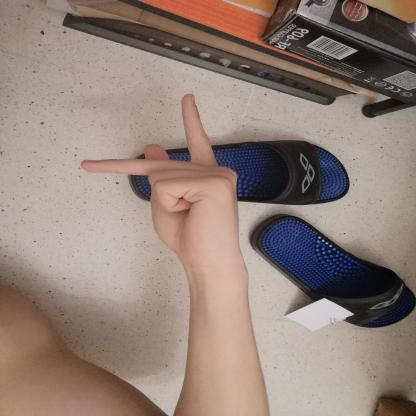DHAA: (67, 84, 250, 269)
